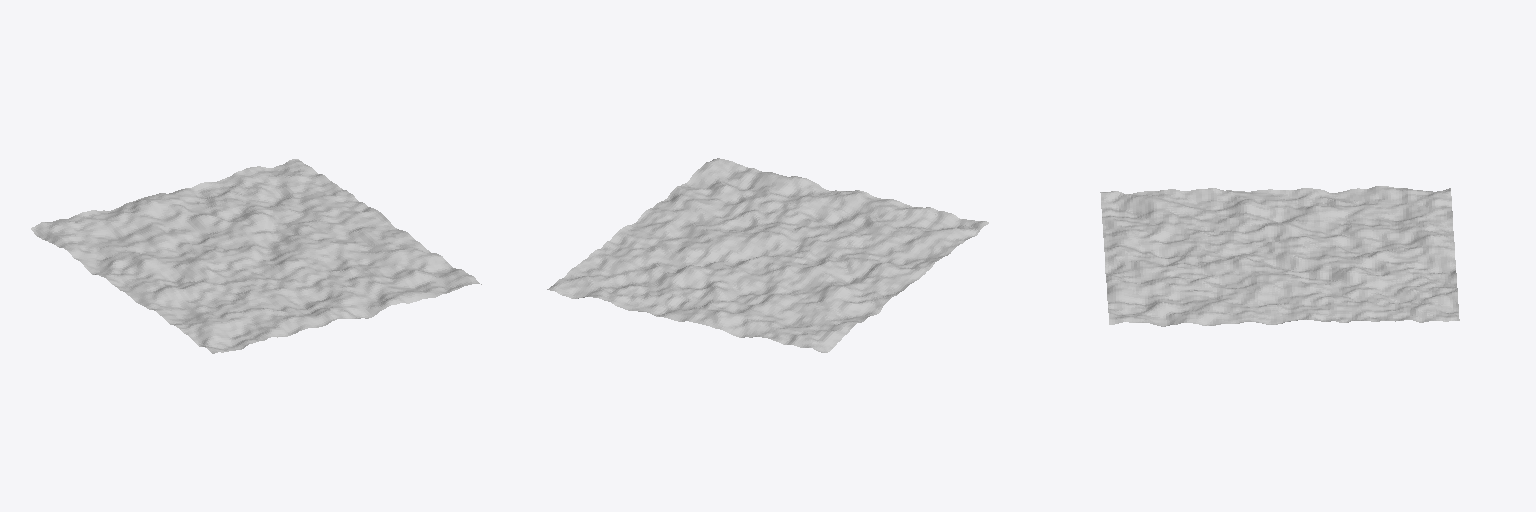
The model's file is sol.obj.
3 renders of one model, left to right at view 1: azimuth 30°, elevation 25°; view 2: azimuth 150°, elevation 25°; view 3: azimuth 270°, elevation 25°, orthographic.
Parts seen in each view (by area): view 1: Plane; view 2: Plane; view 3: Plane.
Boxes of the visible parts, box(x1,y1,x2,y2) form: Plane: box(31, 159, 481, 353); Plane: box(547, 158, 988, 352); Plane: box(1100, 186, 1459, 326).
Bounding box in the file's own units: 2.51 × 0.1098 × 2.78.